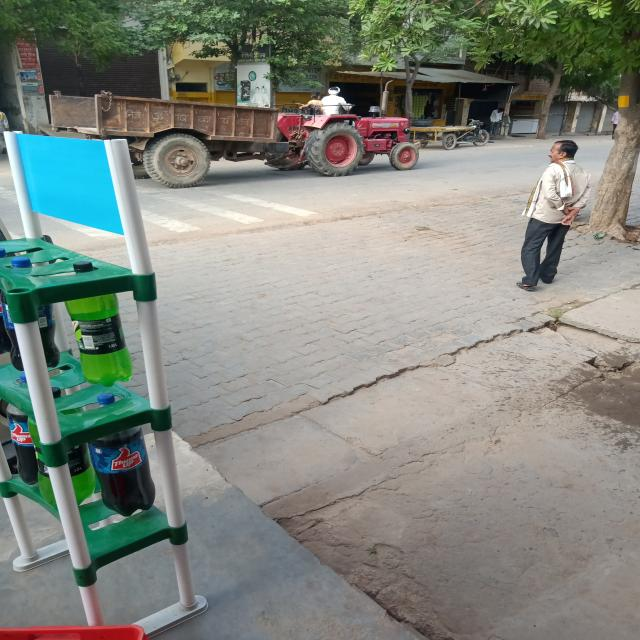tractor: (47, 85, 421, 188)
